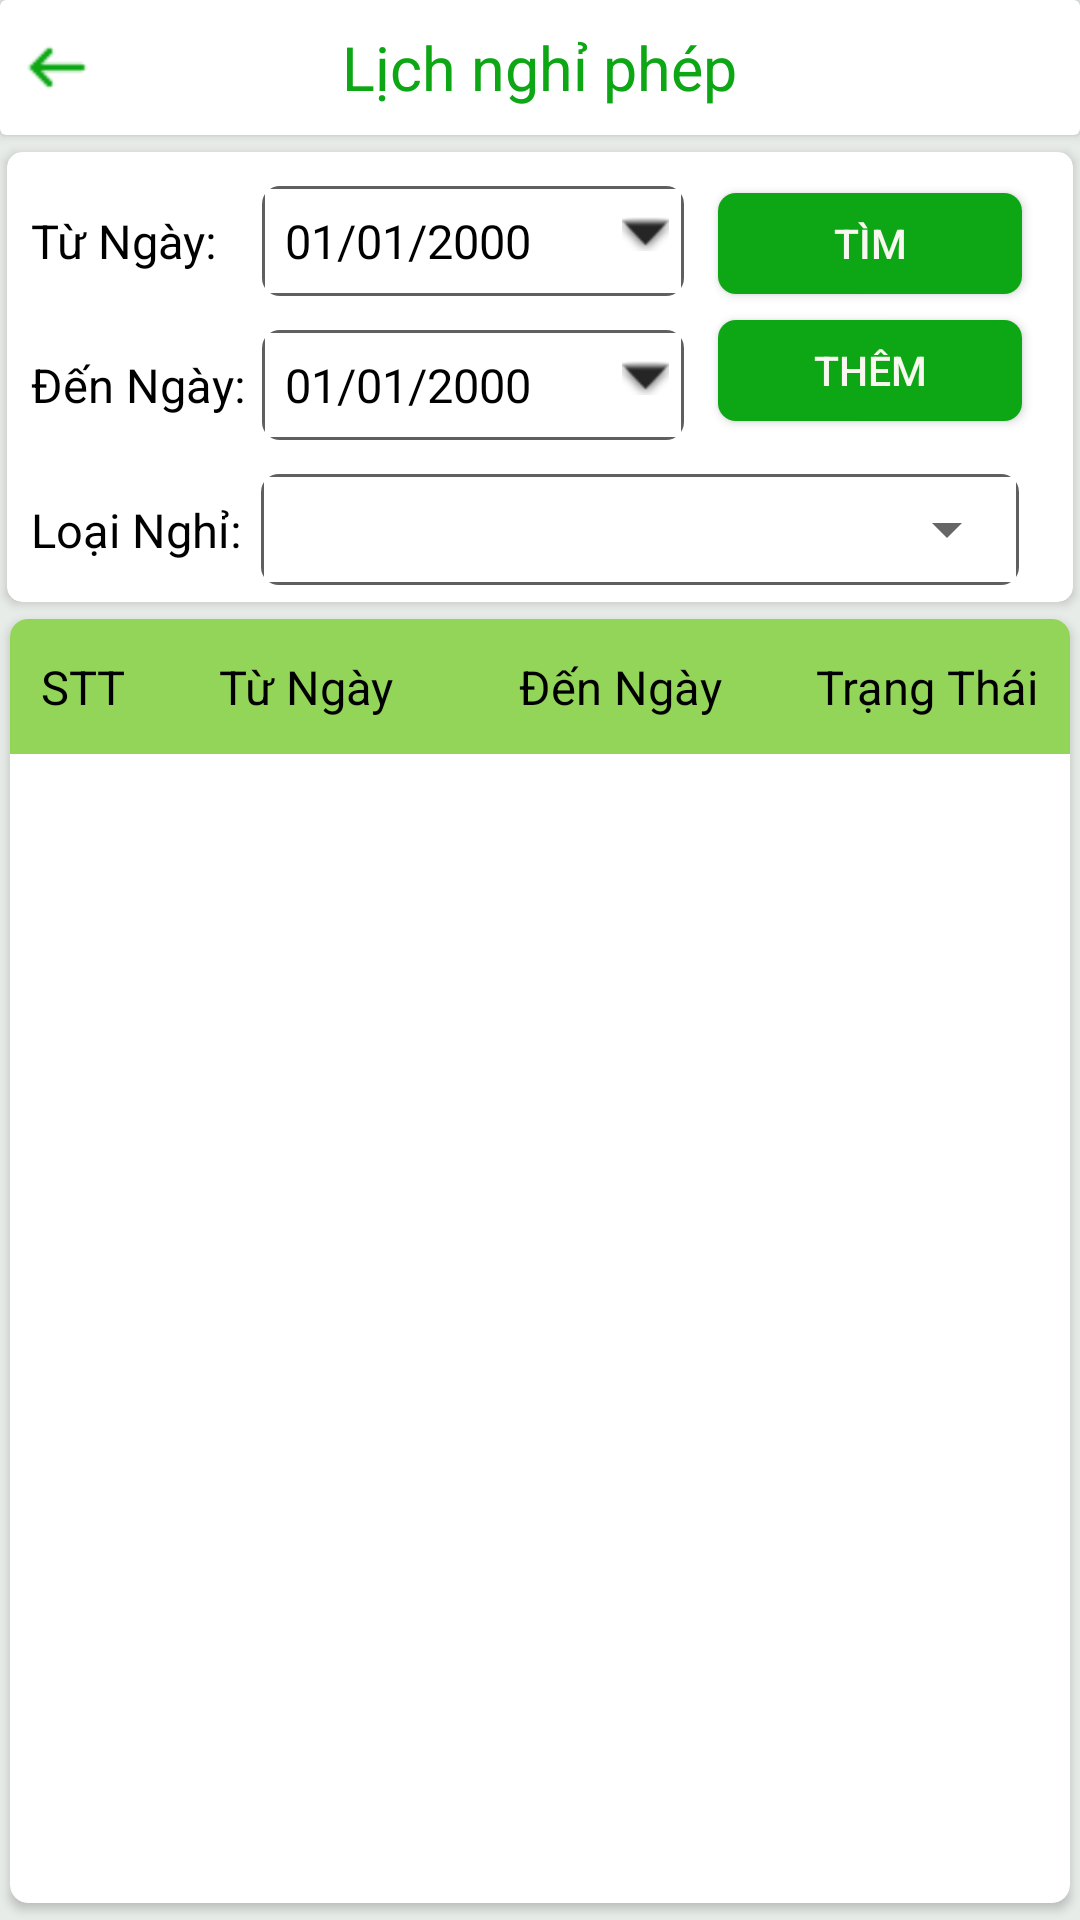

Icon click points for this 1080x1920 phone screenshot, format [x,y]:
back: [57,67]
